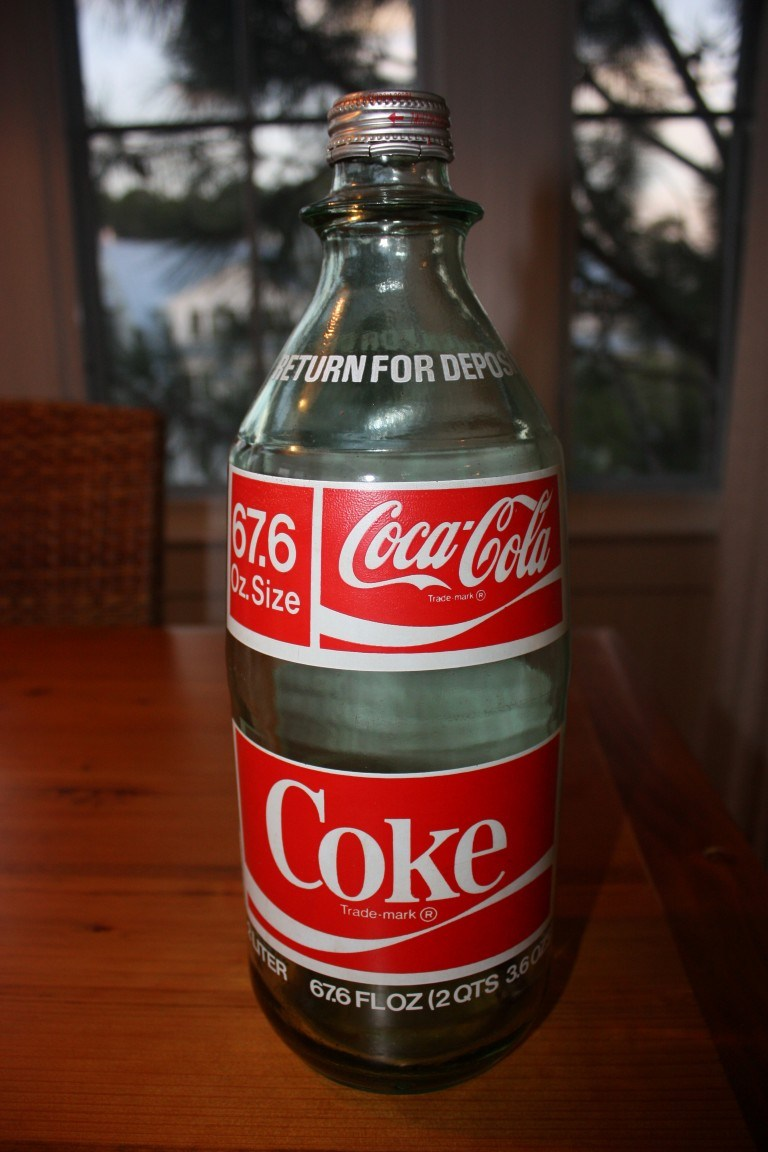bottle: (215, 82, 572, 1090)
